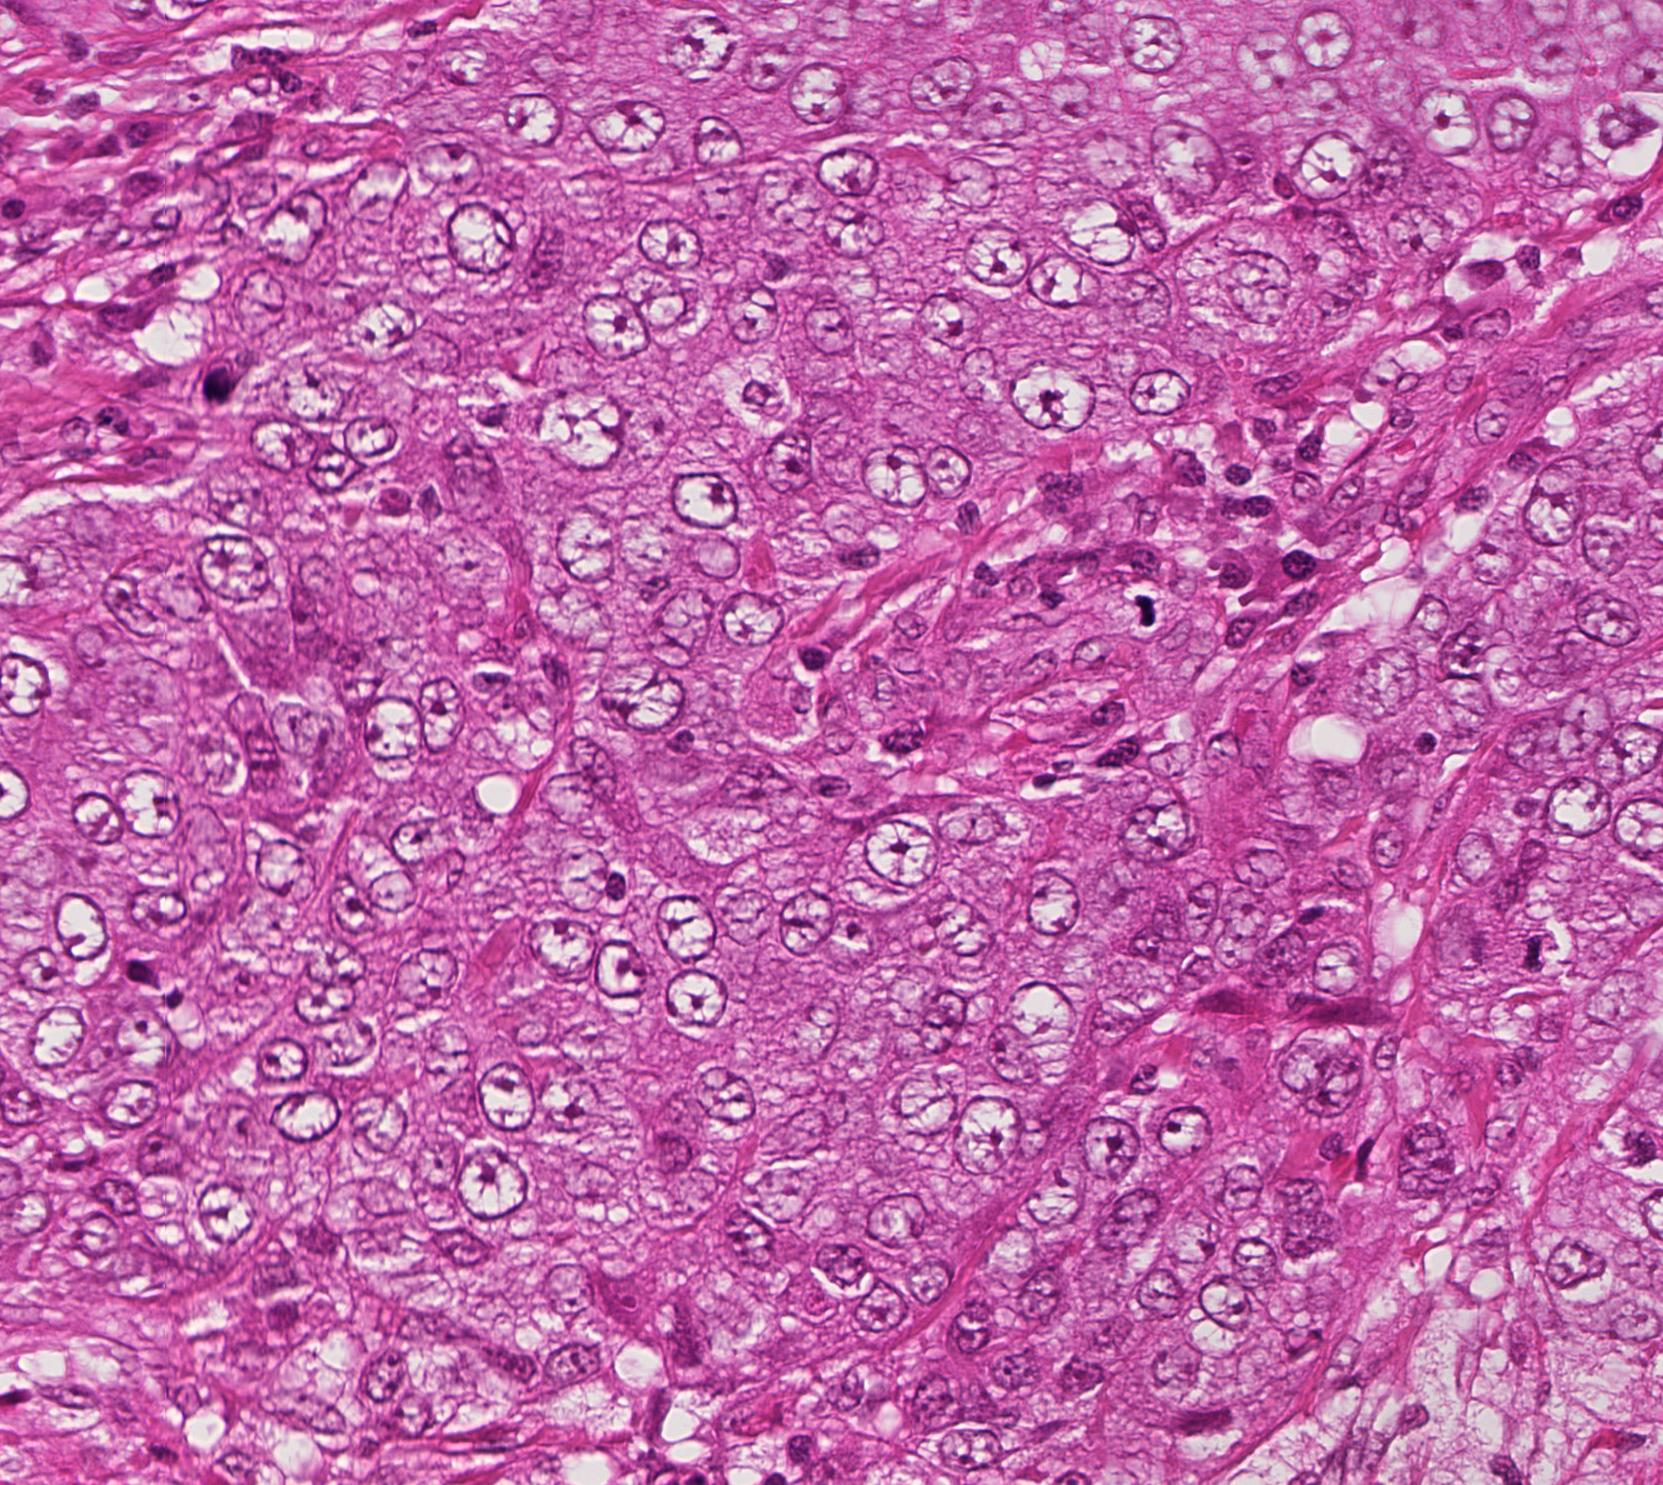mitosis: (1497, 912, 1557, 972)
